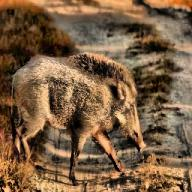boar: (10, 51, 146, 185)
